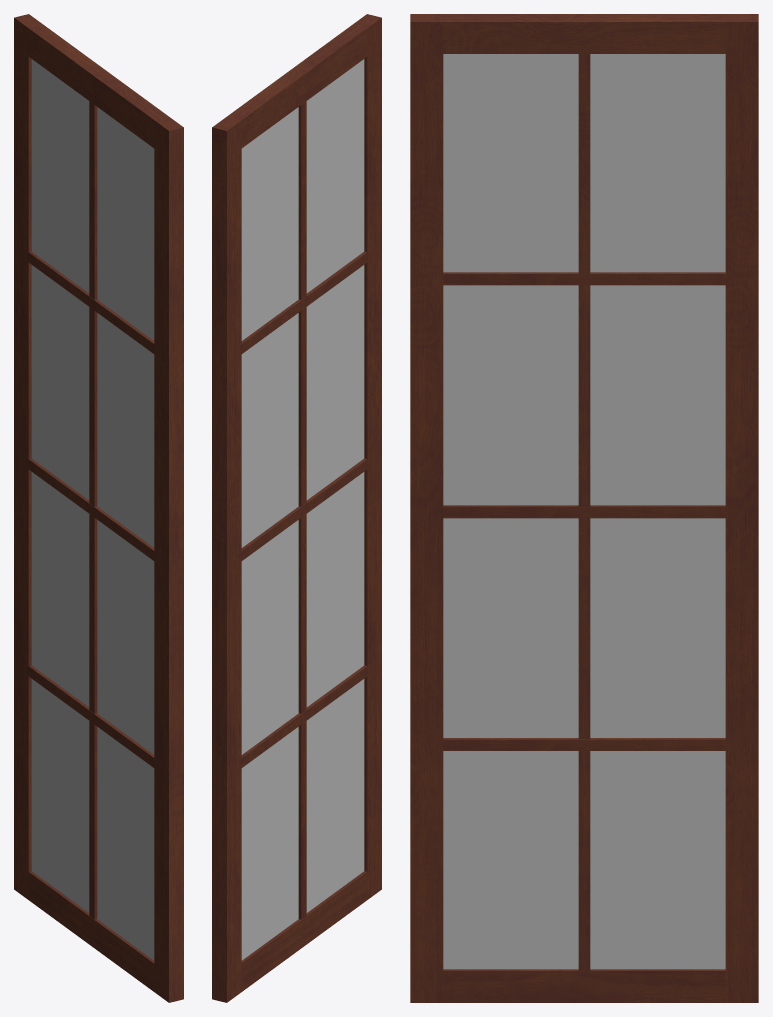
Rendered from SM_InnerDoor01T.fbx.
3 views of the same model, side by side, from view 1: azimuth 30°, elevation 25°; view 2: azimuth 150°, elevation 25°; view 3: azimuth 270°, elevation 25° (orthographic). The views are drawn at different scales.
Visible parts, largest first — view 1: SM_InnerDoor01T; view 2: SM_InnerDoor01T; view 3: SM_InnerDoor01T.
Part boxes in pixels (box(x1,y1,x2,y2)): SM_InnerDoor01T: box(14, 14, 183, 1002); SM_InnerDoor01T: box(212, 14, 381, 1002); SM_InnerDoor01T: box(410, 14, 758, 1002).
Size of the model in its own units: 2.33 by 42.07 by 131.
2 materials, 1 textured.
